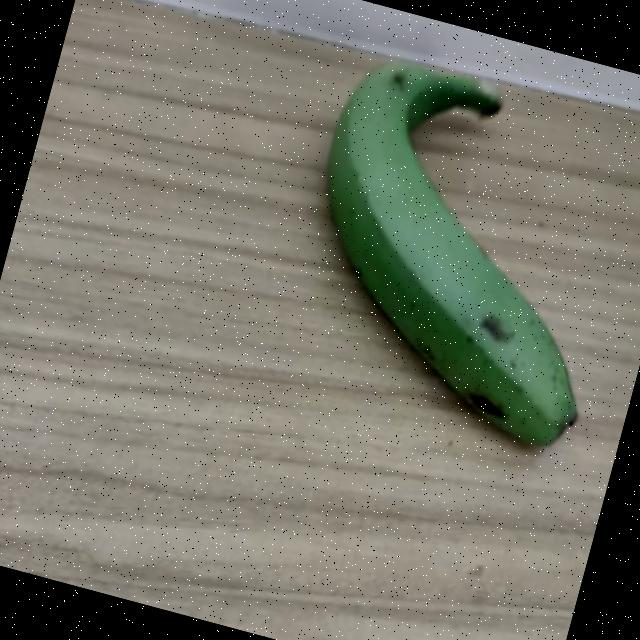Raw: (235, 6, 640, 479)
